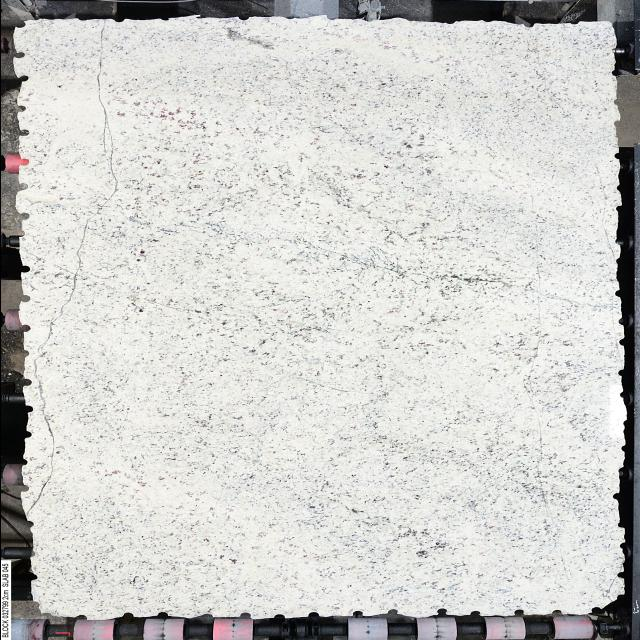chapa: (16, 18, 624, 618)
furo: (582, 590, 626, 614)
veio: (11, 47, 26, 60), (433, 606, 448, 618), (15, 72, 29, 84), (510, 607, 526, 617), (18, 292, 31, 304), (609, 491, 624, 501), (15, 182, 30, 192), (118, 610, 136, 618), (268, 612, 286, 620), (14, 103, 26, 115), (16, 210, 28, 222), (17, 264, 31, 274), (304, 611, 321, 619), (618, 539, 628, 552), (16, 158, 29, 168), (236, 611, 252, 619), (382, 608, 398, 616), (12, 20, 28, 28), (154, 609, 168, 618), (350, 609, 364, 618), (467, 610, 482, 618), (20, 378, 32, 388), (16, 129, 30, 137), (548, 610, 565, 616), (589, 606, 601, 614), (20, 405, 32, 413), (22, 430, 31, 439), (616, 570, 626, 578)
